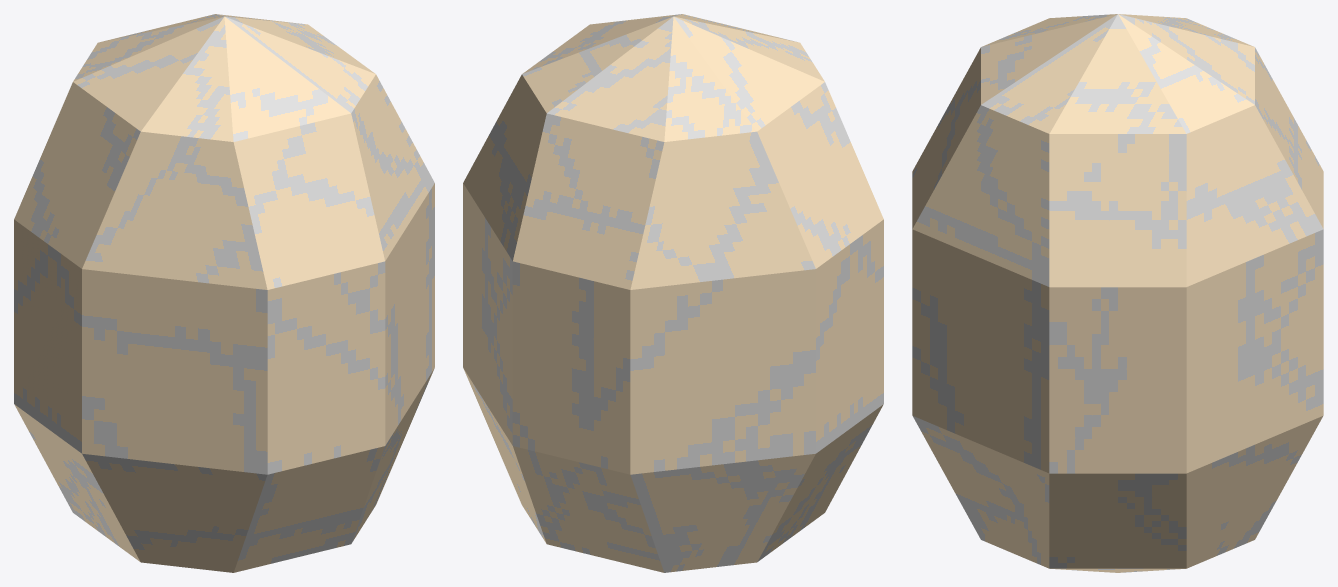
Rendered from head.glb.
3 renders of one model, left to right at view 1: azimuth 30°, elevation 25°; view 2: azimuth 150°, elevation 25°; view 3: azimuth 270°, elevation 25°, orthographic.
Visible parts, largest first — view 1: Mesh_0.007; view 2: Mesh_0.007; view 3: Mesh_0.007.
Part boxes in pixels (x1,y1,x2,y2): Mesh_0.007: (14, 14, 434, 572); Mesh_0.007: (463, 14, 883, 572); Mesh_0.007: (912, 14, 1323, 572).
Size of the model in its own units: 1.5 by 2.25 by 1.5.
1 material, 1 textured.
